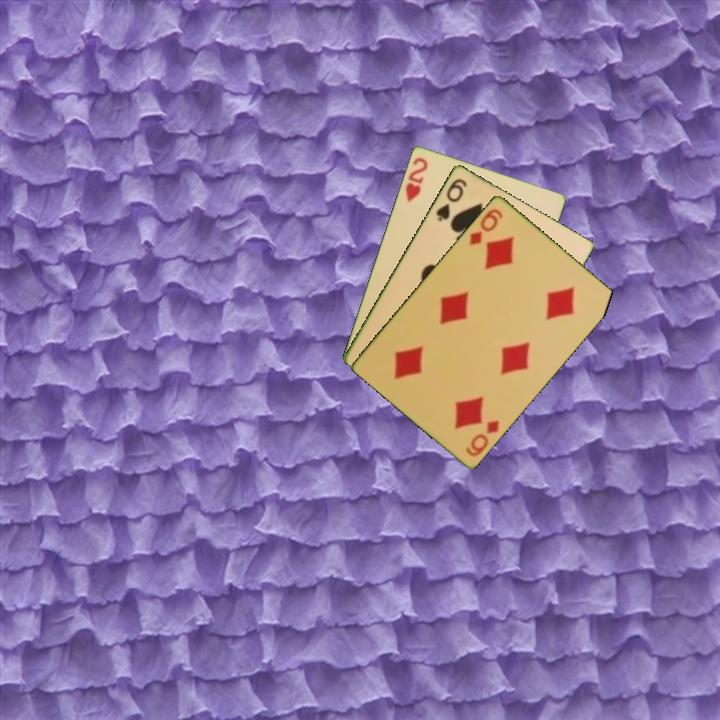2h: (402, 154, 430, 205)
6d: (462, 416, 502, 459), (466, 205, 505, 248)
6s: (432, 174, 470, 224)
